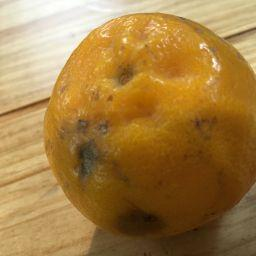Unripe: (45, 13, 256, 235)
